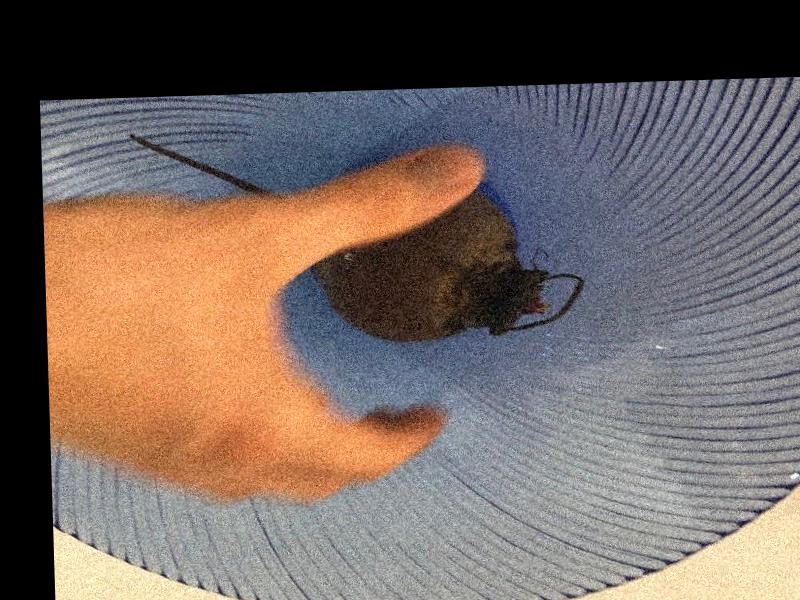Beet: (130, 120, 585, 351)
